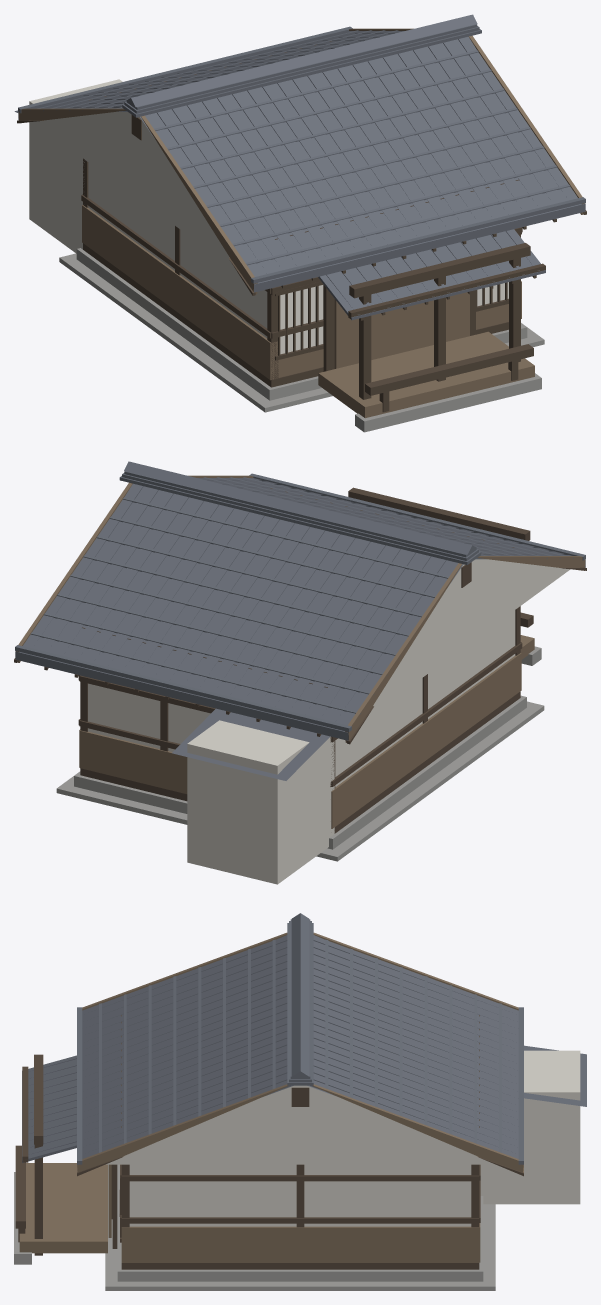
Rendered from family_small_merchant_05.glb.
The picture shows the model from 3 angles, top to bottom: view 1: azimuth 30°, elevation 25°; view 2: azimuth 150°, elevation 25°; view 3: azimuth 270°, elevation 25°; orthographic projection. The views are drawn at different scales.
Parts seen in each view (by area): view 1: family_small_merchant_05; view 2: family_small_merchant_05; view 3: family_small_merchant_05.
Boxes of the visible parts, box(x1,y1,x2,y2) form: family_small_merchant_05: box(14, 14, 586, 432); family_small_merchant_05: box(14, 461, 586, 884); family_small_merchant_05: box(14, 913, 586, 1290).
Bounding box in the file's own units: 7.2 × 4.91 × 10.9.
